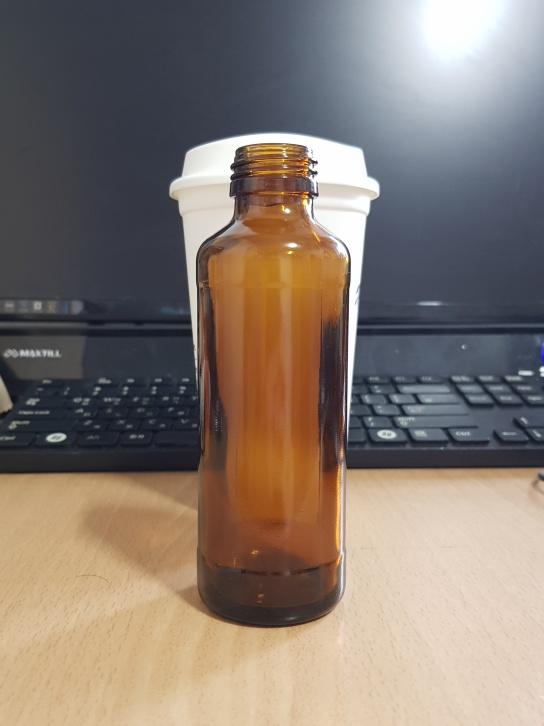Glass: (188, 143, 349, 627)
